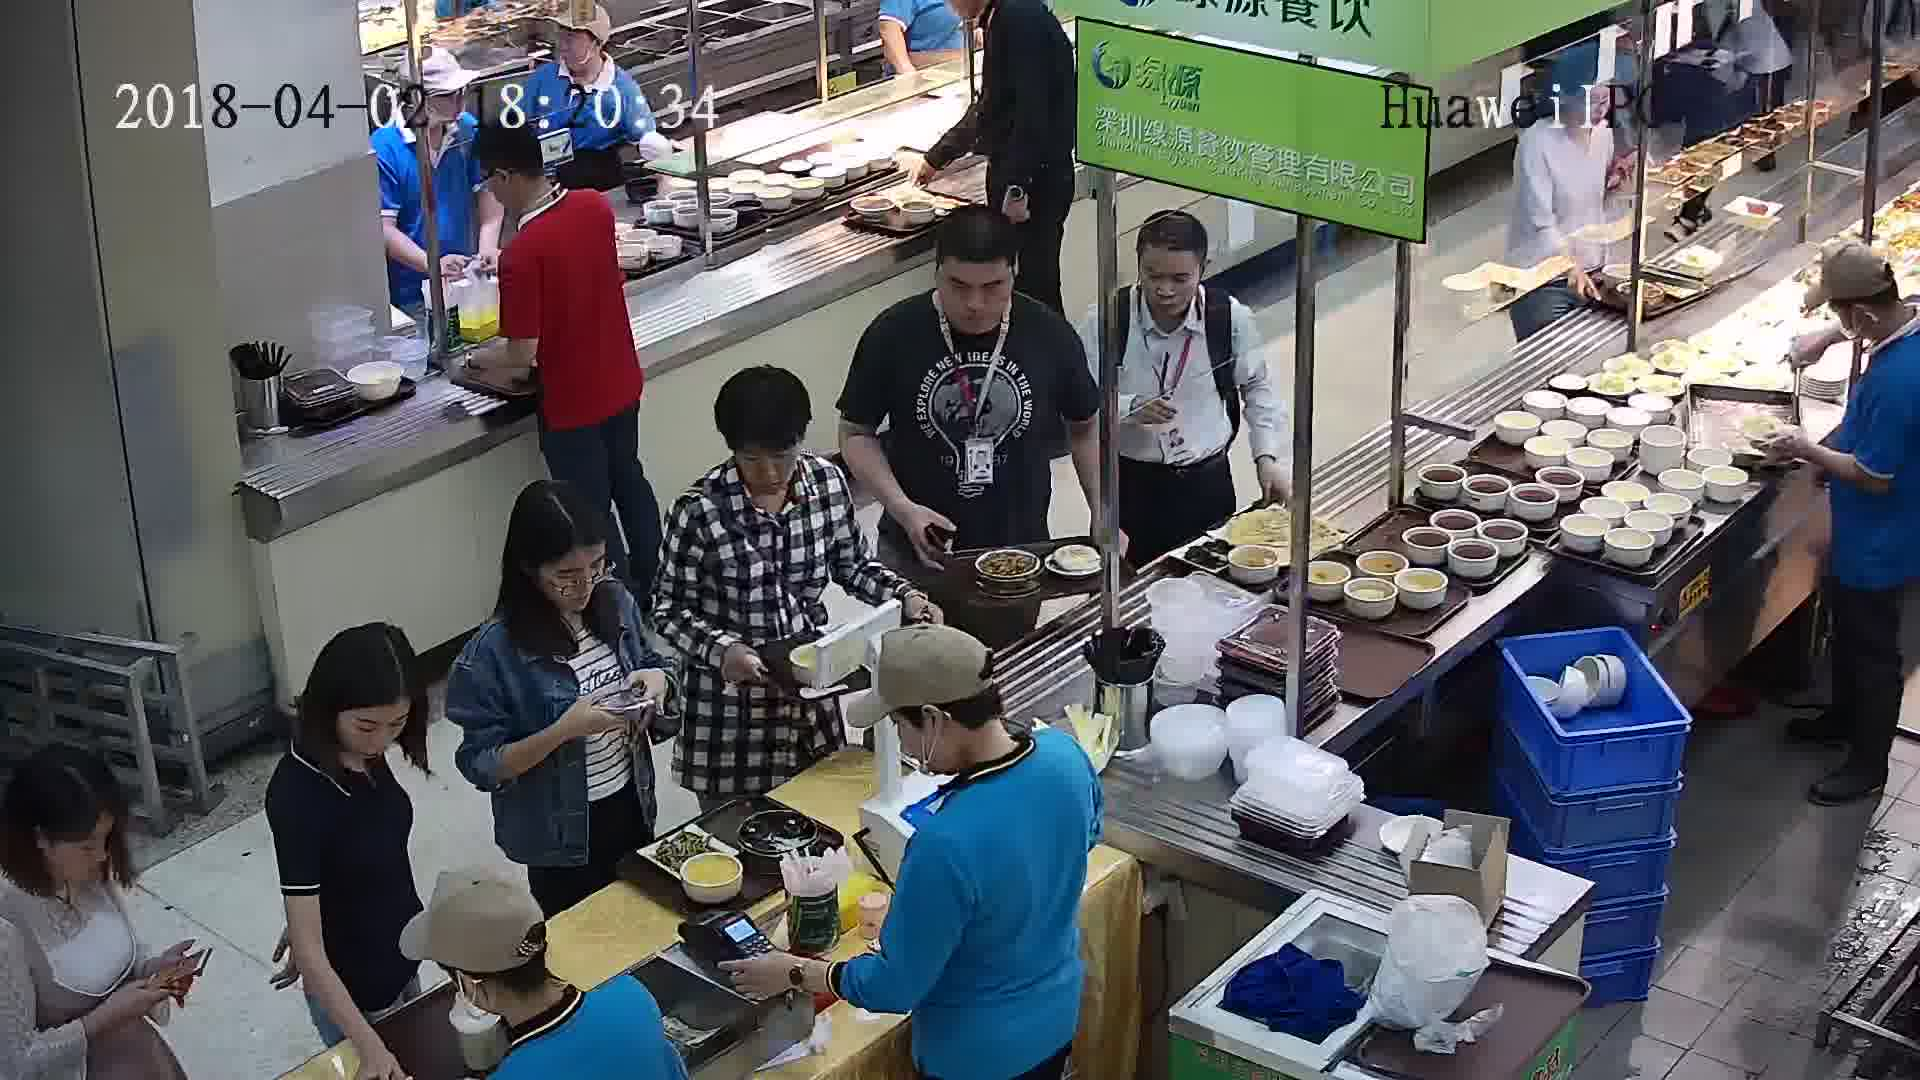face: (934, 253, 1016, 334), (536, 538, 610, 612), (1134, 244, 1205, 315), (47, 815, 115, 882), (734, 430, 800, 496), (344, 701, 401, 758)
person: (866, 616, 1094, 856), (426, 867, 679, 1076), (856, 207, 1082, 391), (461, 477, 639, 702), (665, 361, 863, 562), (261, 628, 431, 844), (0, 744, 148, 957), (1092, 209, 1259, 351), (475, 123, 623, 272), (1804, 242, 1920, 403), (384, 47, 495, 176), (1515, 42, 1618, 171), (525, 10, 635, 101), (953, 1, 1069, 59)
